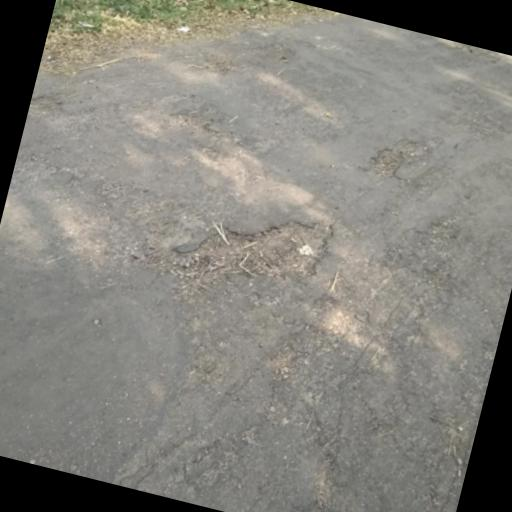pothole: (154, 180, 338, 312), (364, 128, 431, 188), (30, 90, 66, 114)
